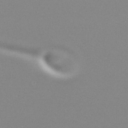normal: (1, 37, 43, 61)
